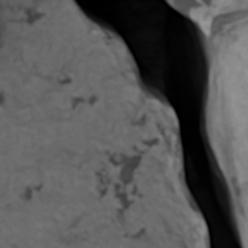broken_brick: (208, 8, 247, 221)
crack: (0, 0, 247, 247), (244, 165, 247, 173)
